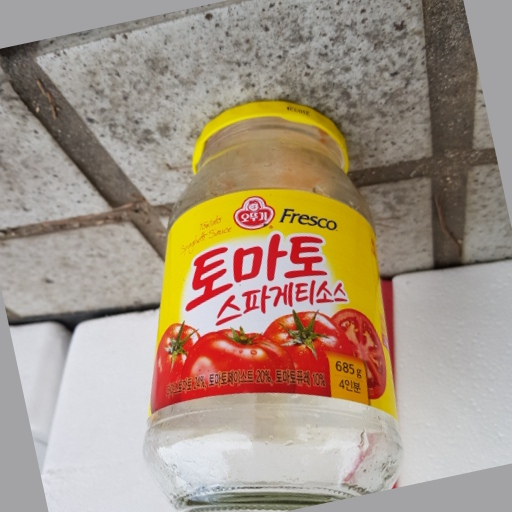Glass_5: (147, 97, 402, 511)
